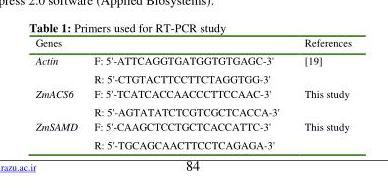table: (34, 34, 351, 151)
table column: (85, 34, 291, 151), (291, 34, 351, 151), (34, 34, 85, 151)
table column header: (34, 34, 351, 50)
table row: (34, 50, 351, 85), (34, 85, 351, 118), (34, 118, 351, 151), (34, 34, 351, 50)
